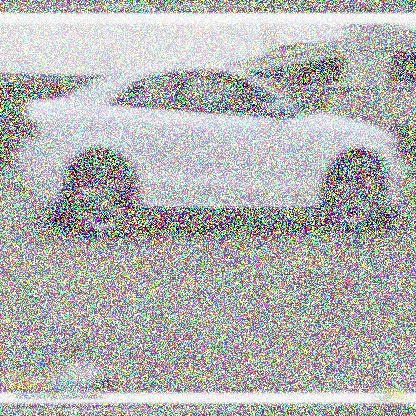Vehicle: (15, 70, 411, 233)
